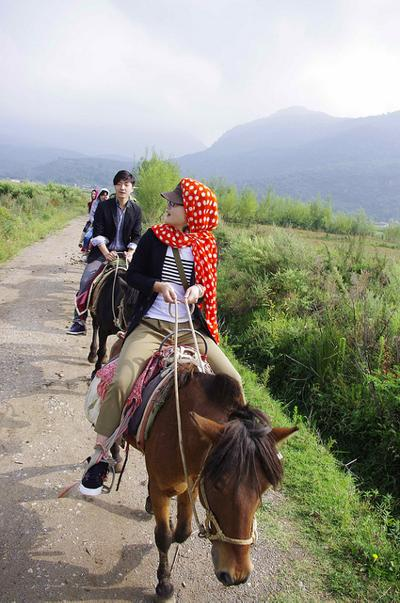person: (81, 179, 246, 498)
